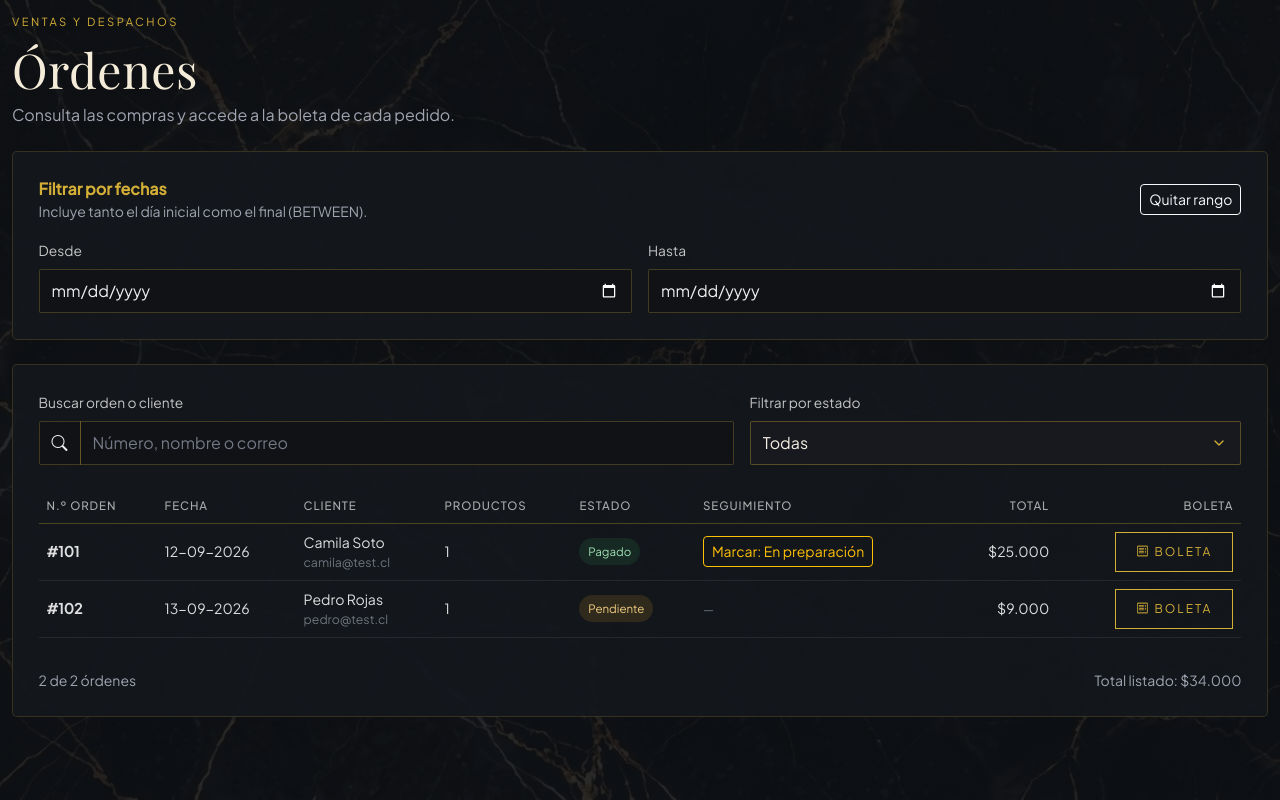
Test: OrdenesAdmin › filtra las órdenes al escribir el nombre del cliente
Expected: the text "Camila Soto camila@test.cl" is shown, [296,523,436,580]
Type "Pedro" into the field labelled "Buscar orden o cliente".
click(407, 443); type("Pedro")  # box [80,421,734,465]
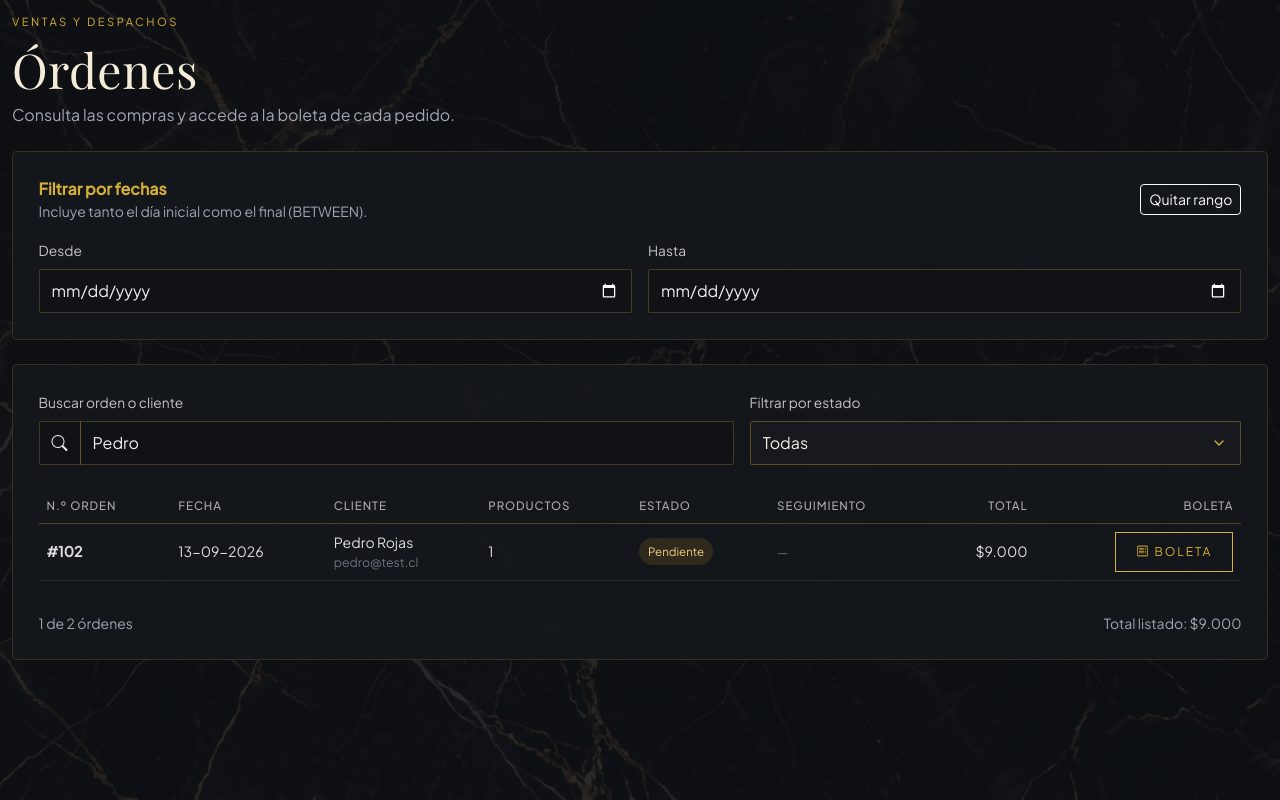
Expected: the text "Pedro Rojas pedro@test.cl" is shown, [326,523,480,580]
Now the text "Camila Soto" is gone
Now the text "1 de 2 órdenes" is shown, box [39,612,133,634]
